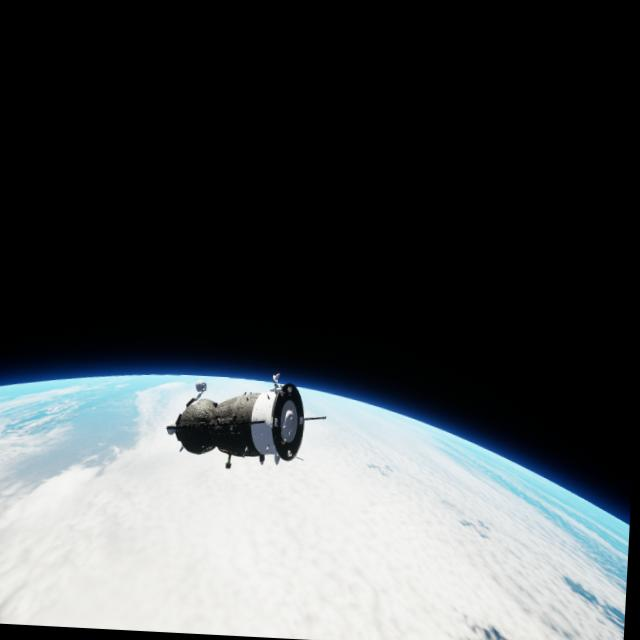Satellites revolving around earth: (162, 364, 330, 476)
